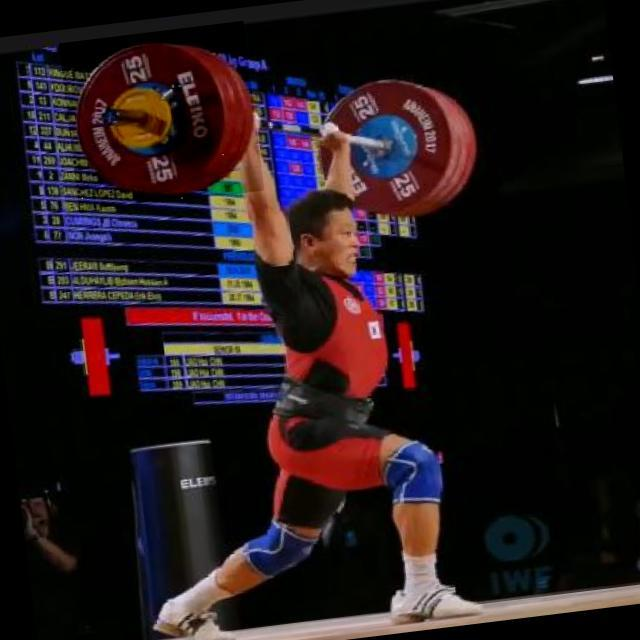barbell: (60, 22, 265, 214)
